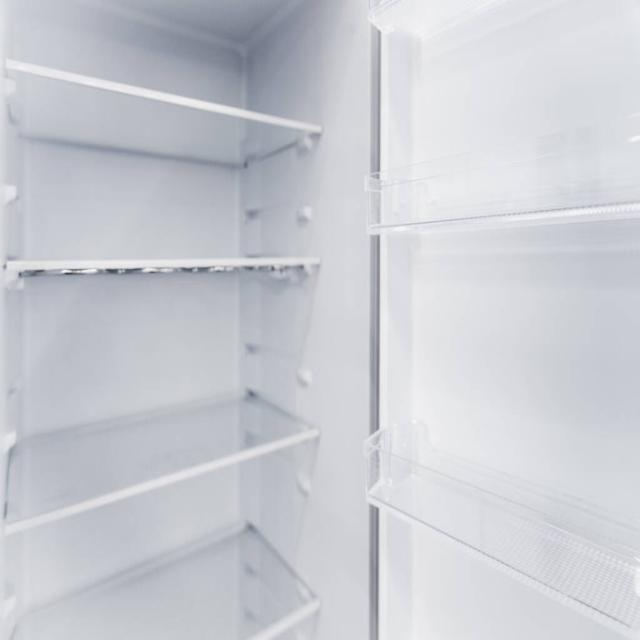fridge-space: (6, 165, 304, 258), (8, 562, 238, 637), (7, 389, 138, 506), (489, 482, 636, 582), (365, 161, 574, 227), (141, 384, 298, 457), (208, 515, 298, 629), (491, 142, 640, 204)
